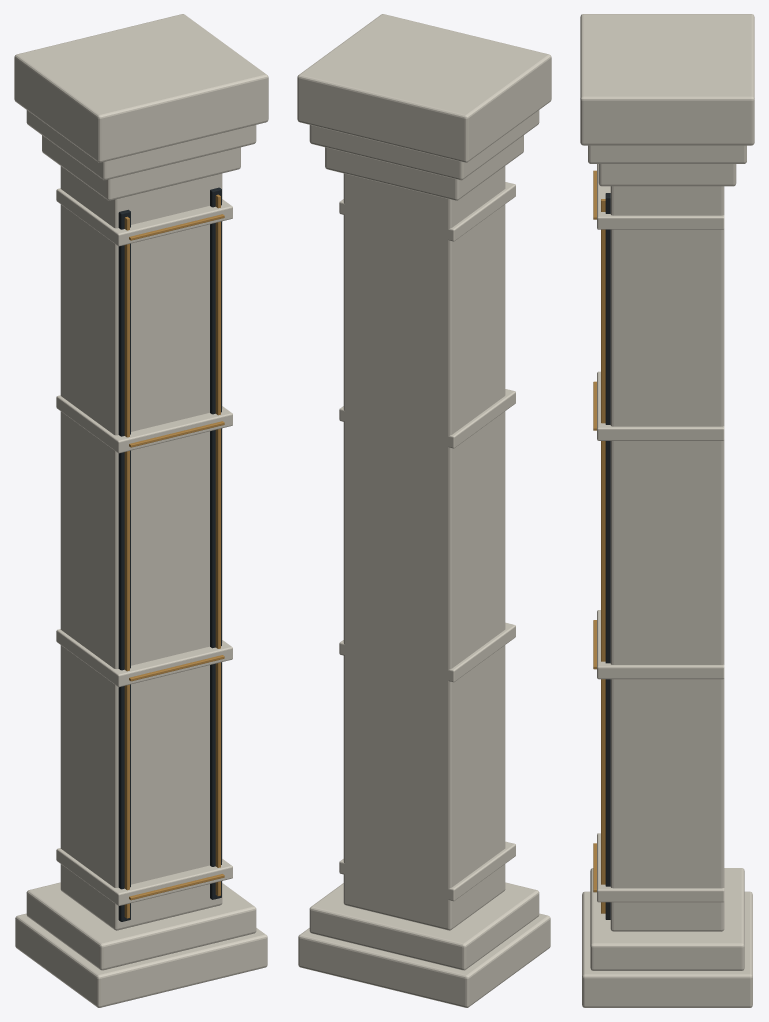
File: SM_Aurelion_KIT_Z07Pier.fbx
The picture shows the model from 3 angles, left to right: view 1: azimuth 30°, elevation 25°; view 2: azimuth 150°, elevation 25°; view 3: azimuth 270°, elevation 25°; orthographic projection.
Parts seen in each view (by area): view 1: SM_Aurelion_KIT_Z07Pier; view 2: SM_Aurelion_KIT_Z07Pier; view 3: SM_Aurelion_KIT_Z07Pier.
Boxes of the visible parts, x1,y1,x2,y2 form: SM_Aurelion_KIT_Z07Pier: [14, 14, 268, 1007]; SM_Aurelion_KIT_Z07Pier: [297, 14, 551, 1007]; SM_Aurelion_KIT_Z07Pier: [580, 14, 754, 1007].
Size of the model in its own units: 120 by 104 by 600.
